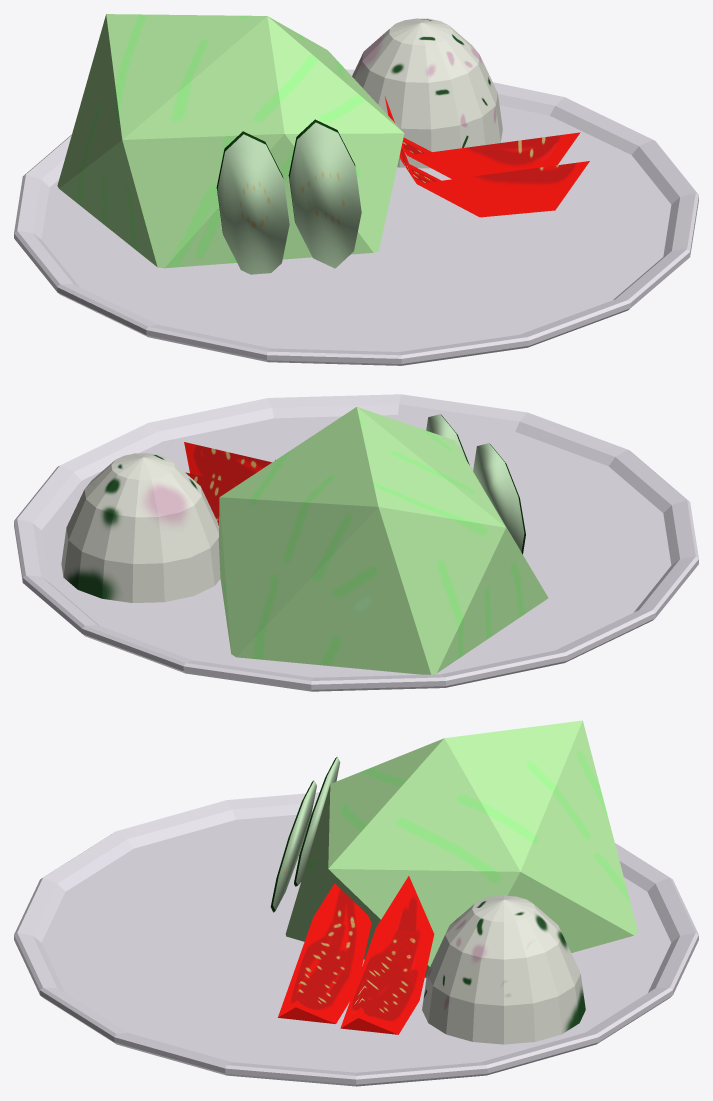
The model's file is sara.fbx.
3 renders of one model, top to bottom at view 1: azimuth 30°, elevation 25°; view 2: azimuth 150°, elevation 25°; view 3: azimuth 270°, elevation 25°, orthographic.
Visible parts, largest first — view 1: 円柱, ICO球, 円.001, 球, 円; view 2: 円柱, ICO球, 球, 円.001, 円; view 3: 円柱, ICO球, 球, 円, 円.001.
Part boxes in pixels (x1,y1,x2,y2): 円柱: (14,69,698,365); ICO球: (57,14,404,268); 円.001: (216,119,361,274); 球: (352,18,502,168); 円: (385,96,589,217); 円柱: (14,394,698,691); ICO球: (218,407,548,674); 球: (61,453,220,602); 円.001: (426,414,525,554); 円: (184,442,275,525); 円柱: (14,792,698,1086); ICO球: (285,720,637,977); 球: (422,895,585,1044); 円: (278,876,434,1034); 円.001: (270,756,340,912).
Size of the model in its own units: 200 by 64.48 by 200.
Materials: 5 (5 with a texture image).
